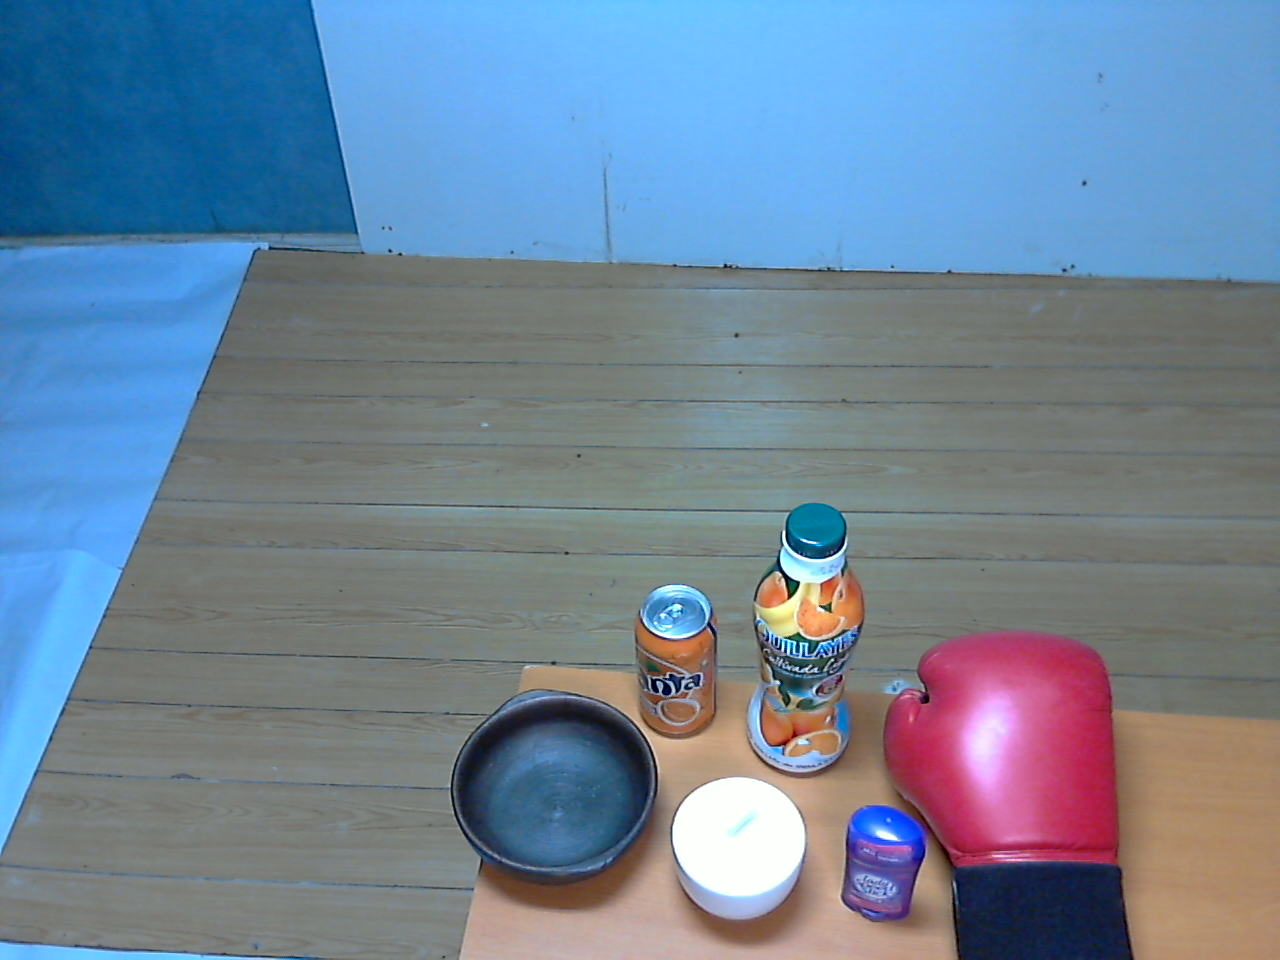azucarero: (669, 769, 816, 932)
desodorante: (833, 800, 933, 935)
greda: (438, 684, 663, 891)
guante: (873, 616, 1145, 960)
lata: (627, 579, 723, 750)
yogurt: (739, 501, 877, 788)
